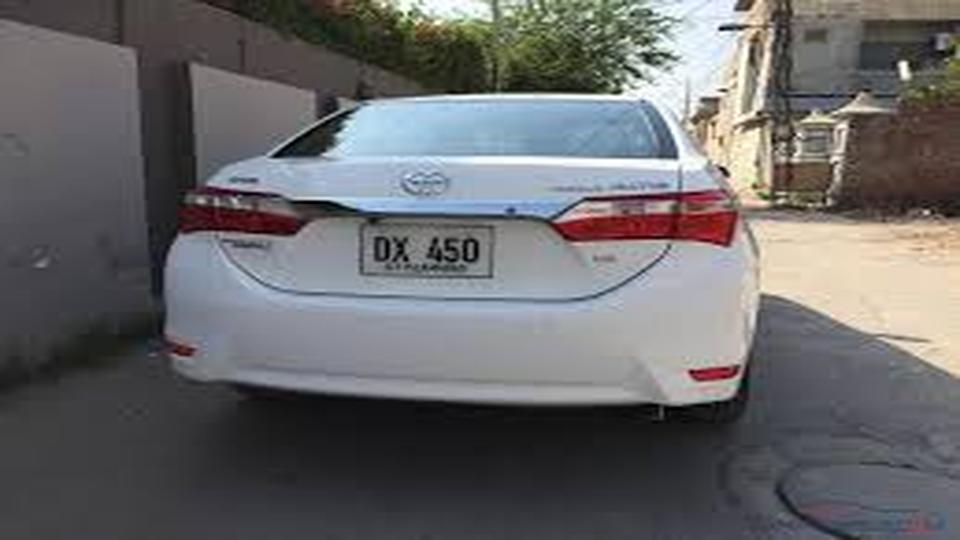NumberPlate: (363, 218, 499, 280)
